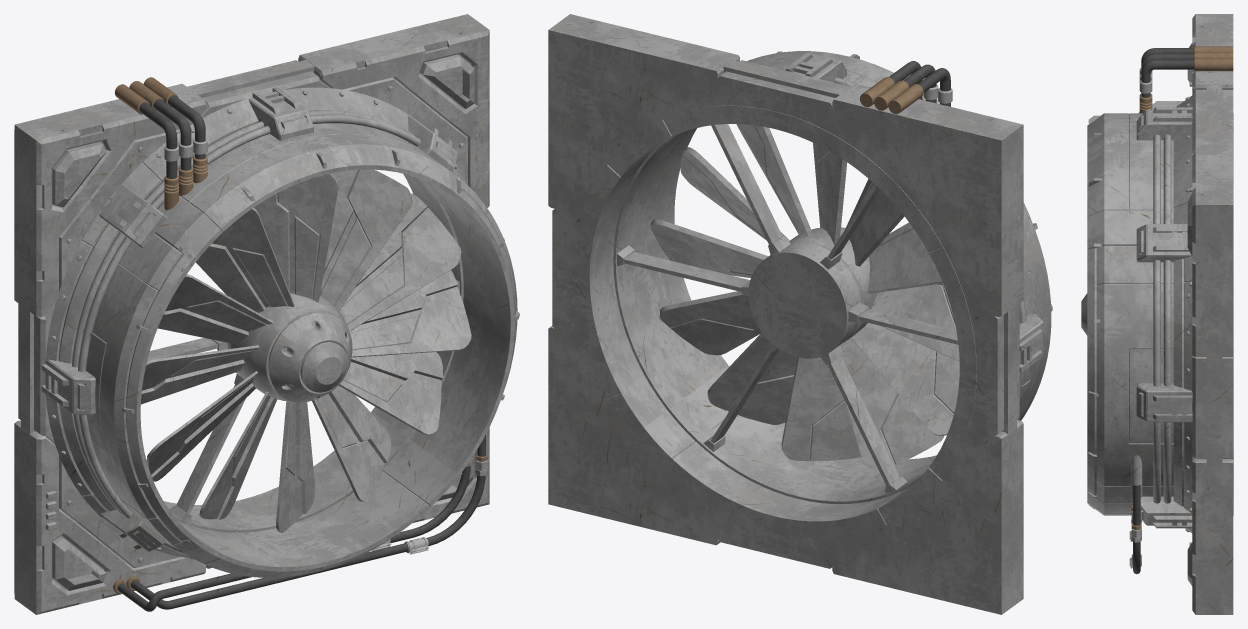
Rendered from ventilador-industrial-2m.glb.
The picture shows the model from 3 angles, left to right: view 1: azimuth 30°, elevation 25°; view 2: azimuth 150°, elevation 25°; view 3: azimuth 270°, elevation 25°; orthographic projection. The views are drawn at different scales.
Visible parts, largest first — view 1: VENTILADOR_Industrial_2m; view 2: VENTILADOR_Industrial_2m; view 3: VENTILADOR_Industrial_2m.
Boxes of the visible parts, x1,y1,x2,y2 form: VENTILADOR_Industrial_2m: (14, 14, 519, 614); VENTILADOR_Industrial_2m: (548, 14, 1052, 614); VENTILADOR_Industrial_2m: (1081, 14, 1233, 614).
Size of the model in its own units: 1.94 by 2 by 0.6552.
Materials: 3 (3 with a texture image).
